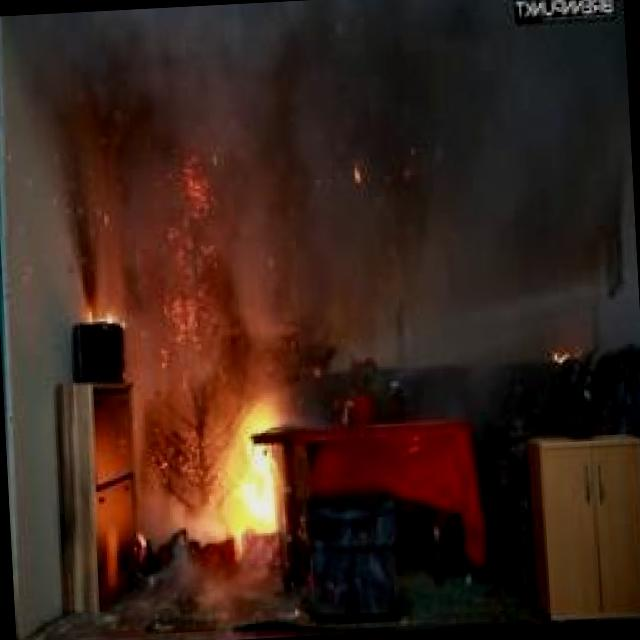fire: (140, 318, 312, 588)
